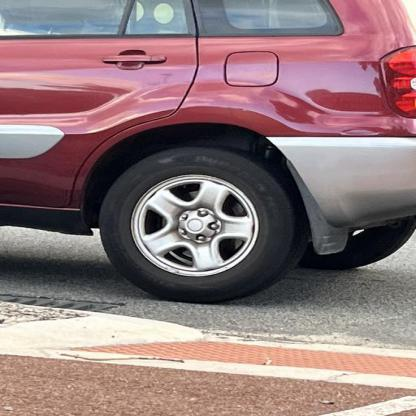Tire: (97, 148, 303, 303)
